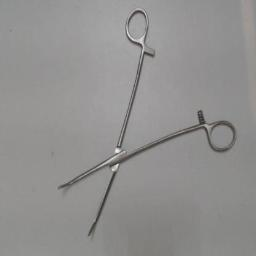Lahey Forceps: (53, 3, 239, 243)
